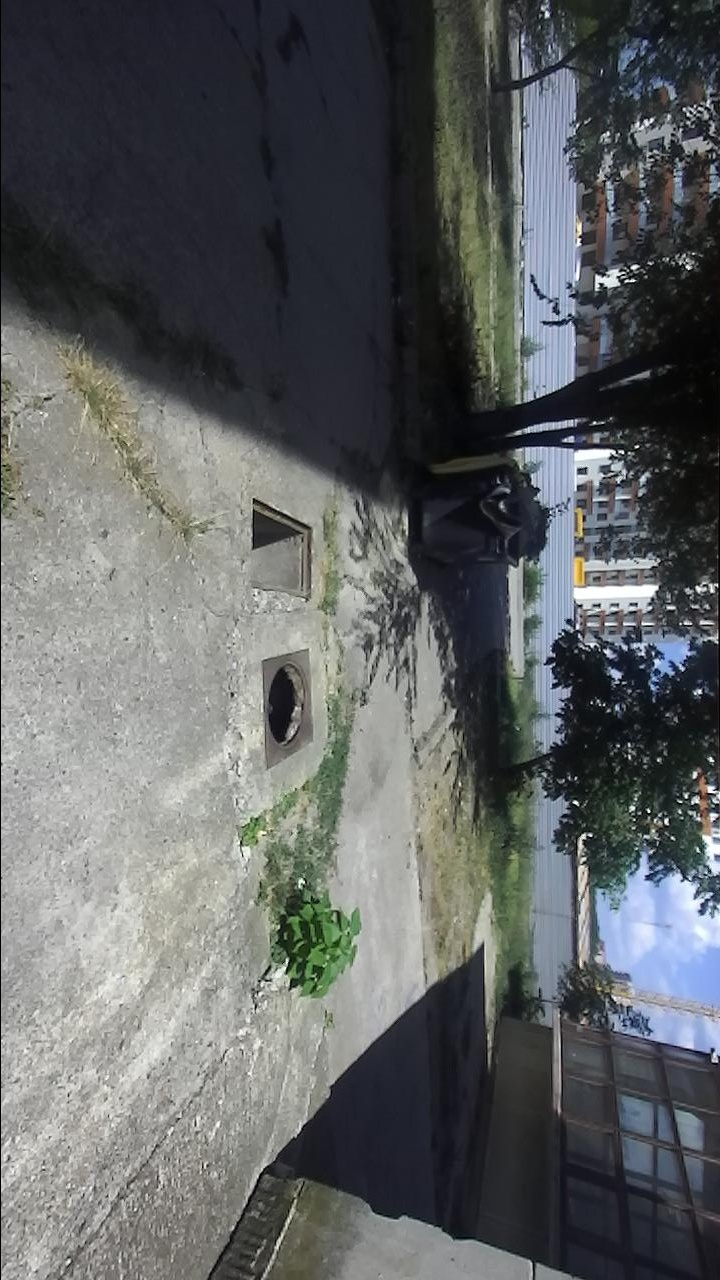drain: (247, 495, 315, 604), (265, 657, 306, 750)
